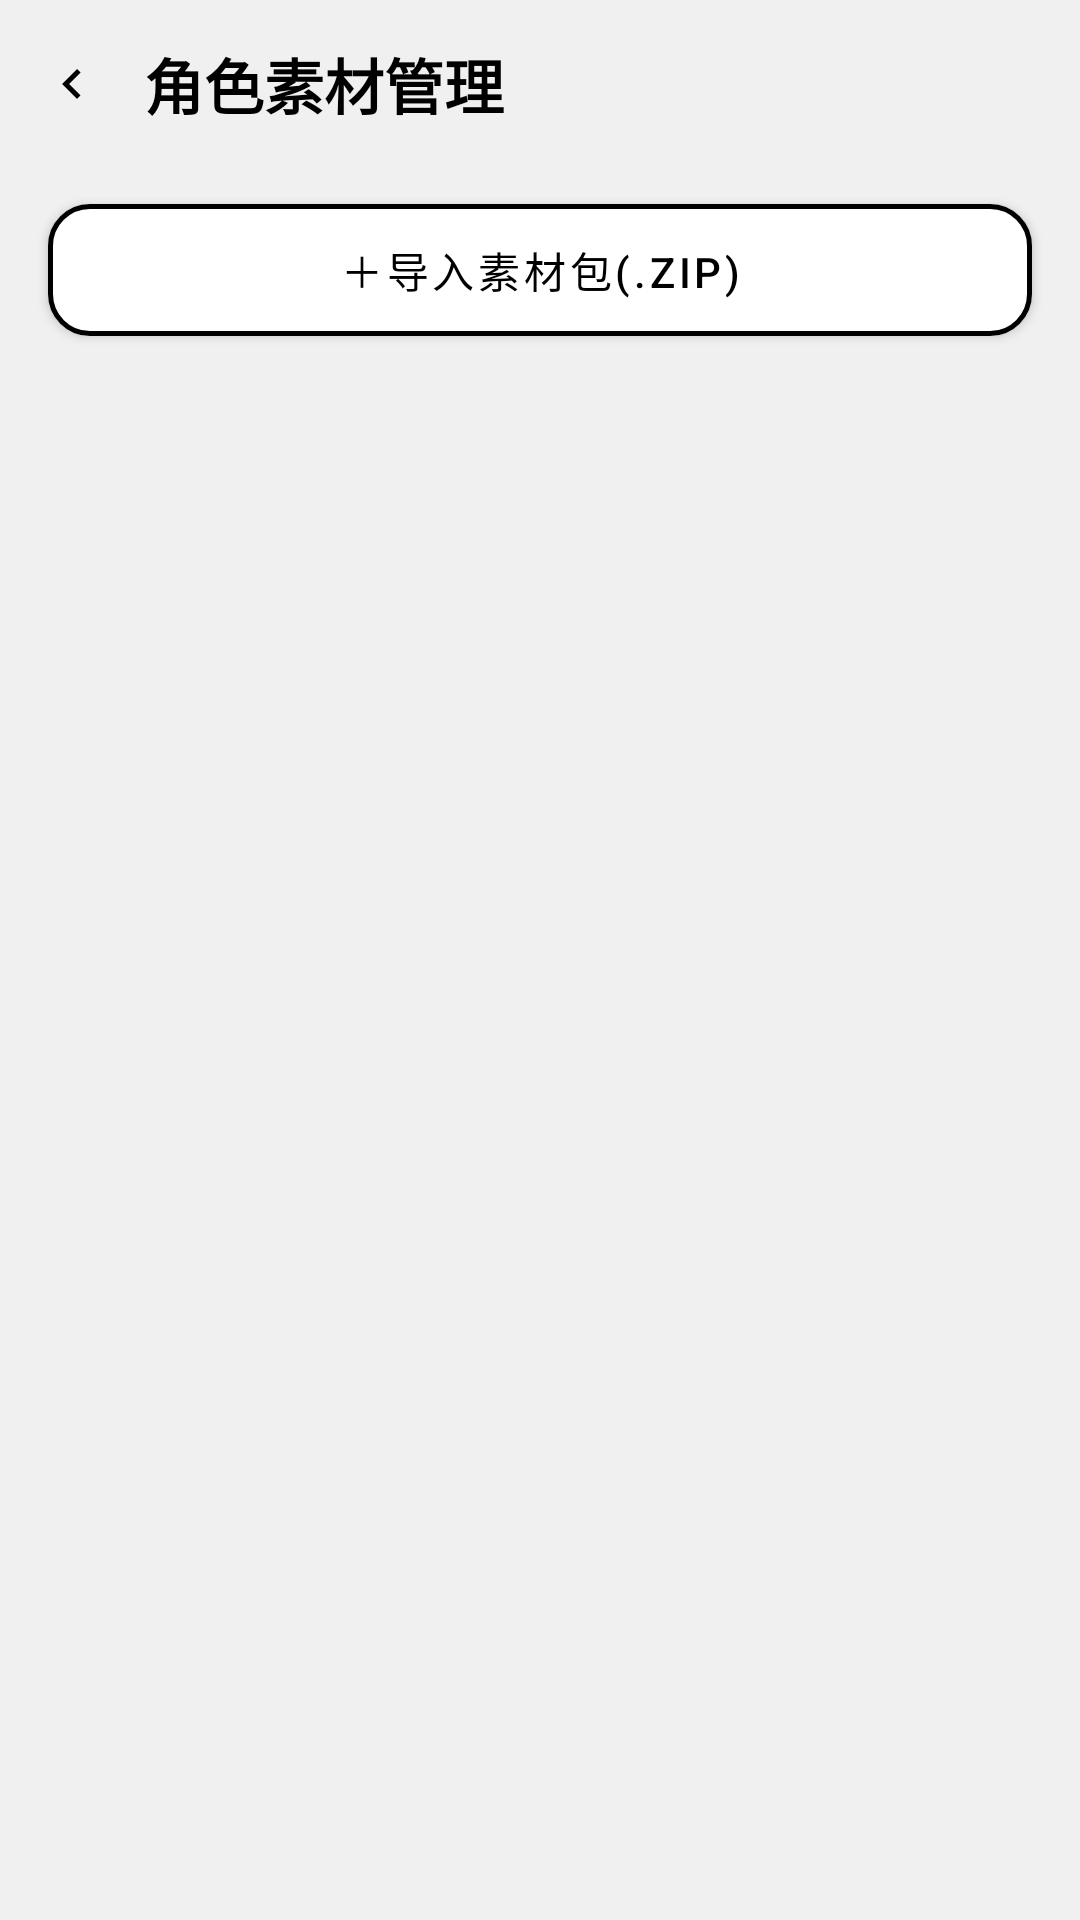

Locate icon controls on the screen. Image size 1080x1920, boxes as (left=x1, top=y1, right=x2, bottom=y2).
返回: (left=62, top=69, right=81, bottom=99)
